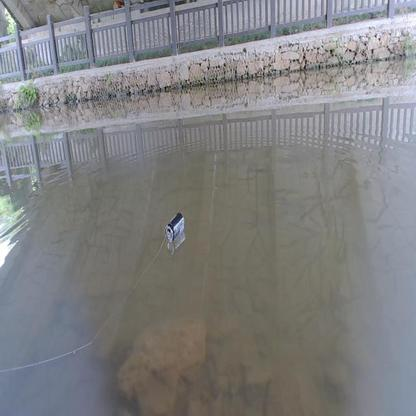can: (165, 211, 184, 237)
